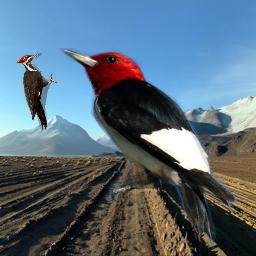Woodpecker: (57, 48, 241, 249), (16, 53, 57, 131)
